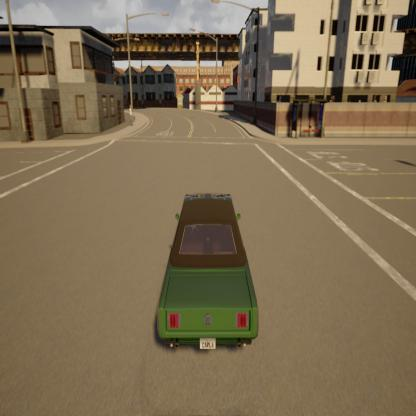Cars: (151, 172, 269, 376)
Pedestrian: (126, 99, 138, 132)
